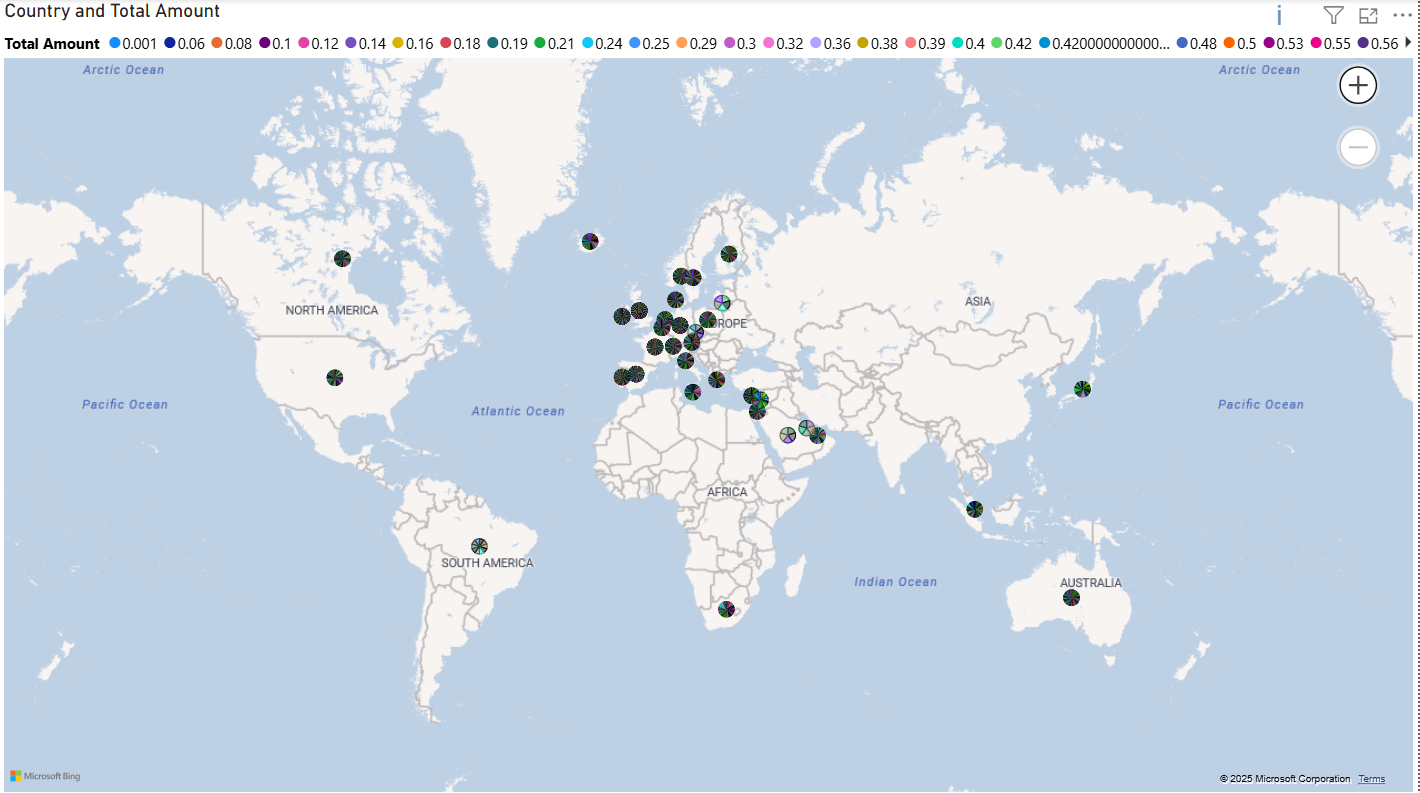

What the dashboard file says about the page in this screenshot:
{"tool":"powerbi","page":{"name":"Page 2","canvas":[1280,720],"ordinal":1},"visuals":[{"type":"map","fields":{"Category":["ecommerce_cleaned.Country"],"Series":["ecommerce_cleaned.Total Amount"]},"box":[0,0,1280.3,720.2],"z":0}]}

Visuals, with their boxes on the page's 1280x720 design canvas (x1, y1, x2, y2). These are canvas units, not pixel positions in the 1420x793 screenshot, which may show the page scaled, cropped or inside an application window:
map - ecommerce_cleaned.Country x ecommerce_cleaned.Total Amount: bbox=[0, 0, 1280, 720]
